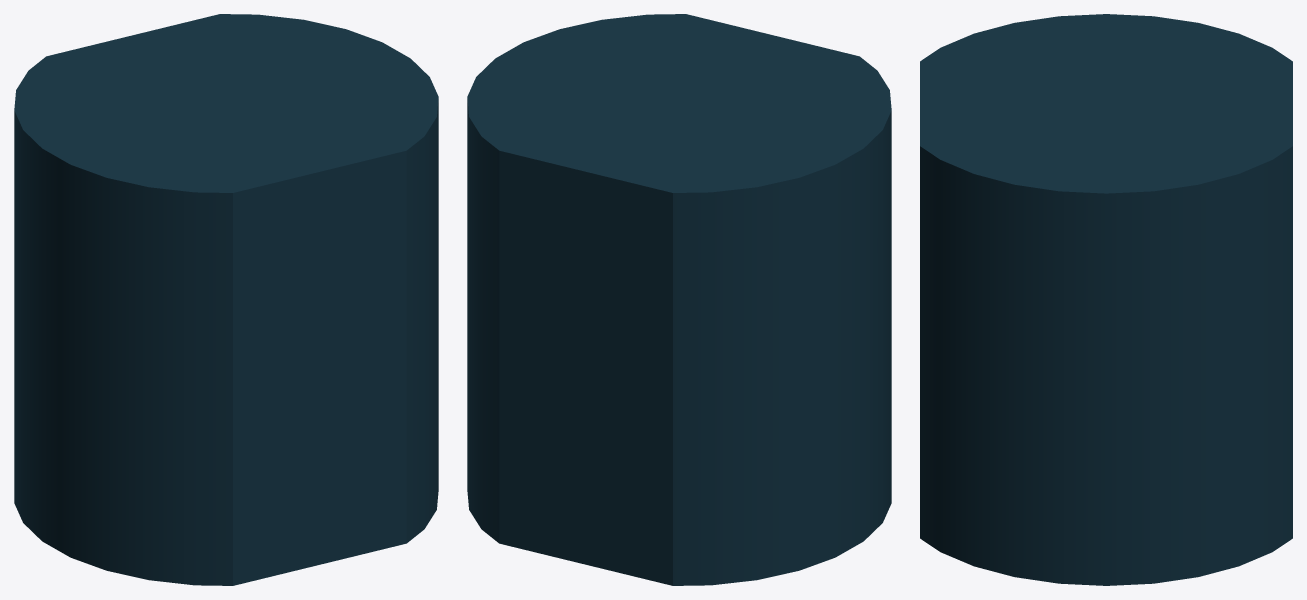
The model's file is W1_Column_Top.fbx.
3 renders of one model, left to right at view 1: azimuth 30°, elevation 25°; view 2: azimuth 150°, elevation 25°; view 3: azimuth 270°, elevation 25°, orthographic.
Parts seen in each view (by area): view 1: W1_Column_Top.001; view 2: W1_Column_Top.001; view 3: W1_Column_Top.001.
Boxes of the visible parts, x1,y1,x2,y2 form: W1_Column_Top.001: (14, 14, 438, 585); W1_Column_Top.001: (467, 14, 891, 585); W1_Column_Top.001: (920, 14, 1292, 585).
Bounding box in the file's own units: 0.4908 × 0.5 × 0.4306.
